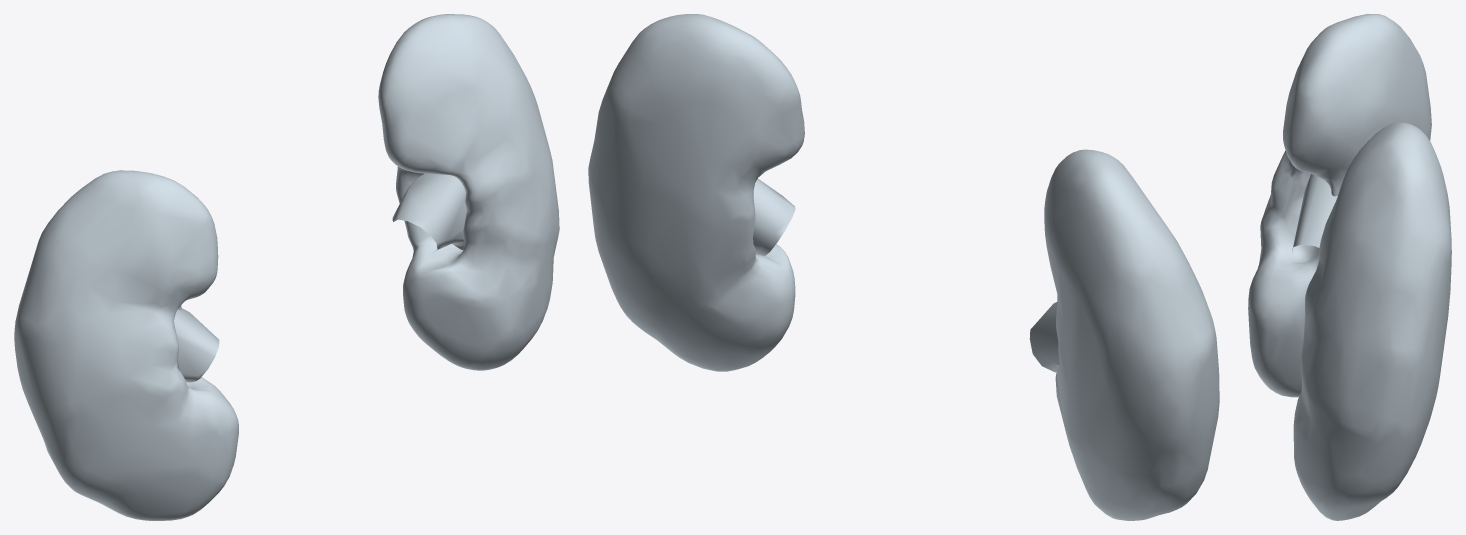
File: reins.glb
The picture shows the model from 3 angles, left to right: view 1: azimuth 30°, elevation 25°; view 2: azimuth 150°, elevation 25°; view 3: azimuth 270°, elevation 25°; orthographic projection. The views are drawn at different scales.
Parts seen in each view (by area): view 1: reins; view 2: reins; view 3: reins.
Part boxes in pixels (x1,y1,x2,y2): reins: (14, 14, 559, 520); reins: (588, 14, 1219, 520); reins: (1248, 14, 1451, 520).
Size of the model in its own units: 0.178 by 0.1236 by 0.0523.
